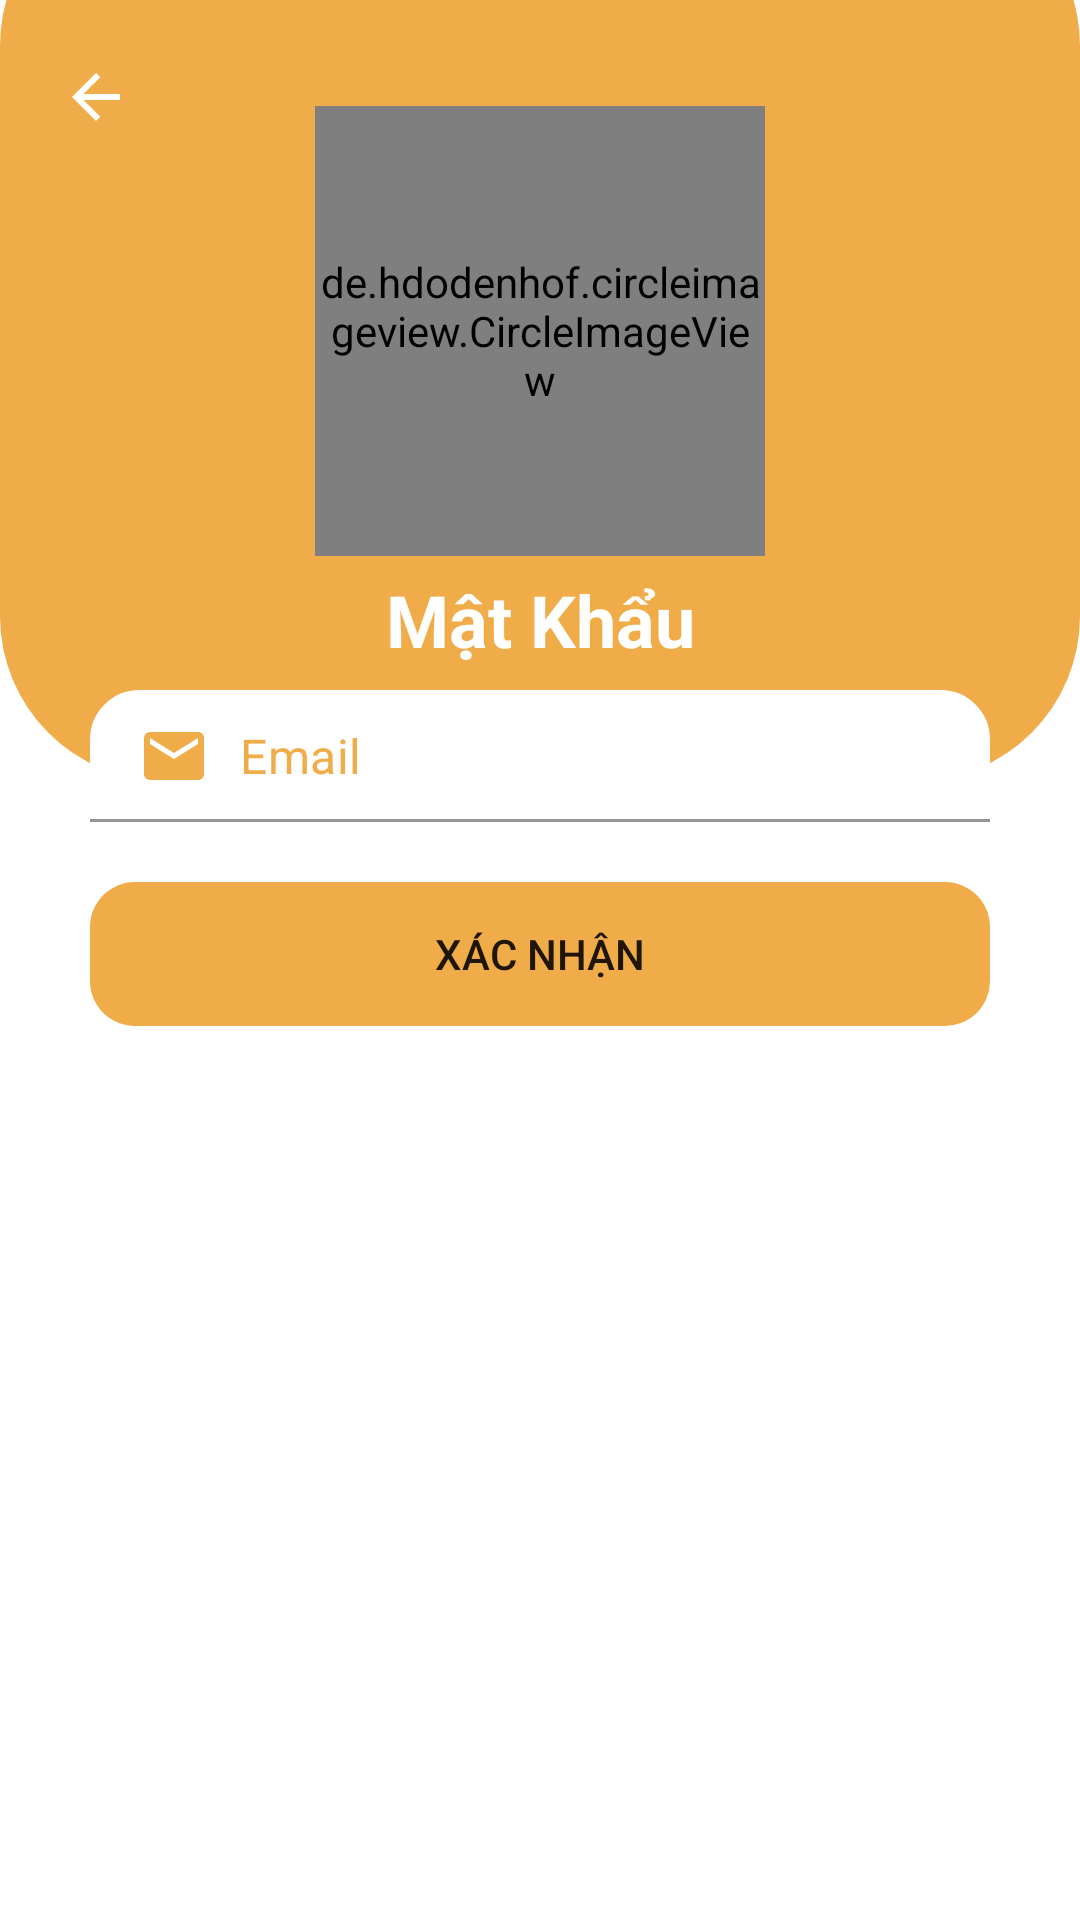

Where to tap for icons on this 1080 × 1920 app screen, as (x,y):
back: (96,97)
